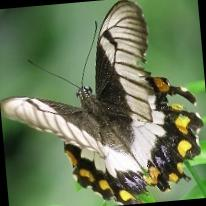butterfly: (0, 0, 202, 205)
